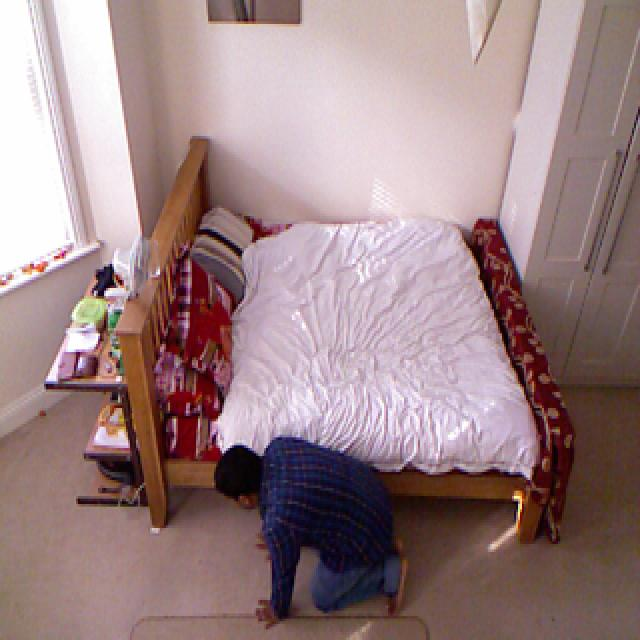crawling: (214, 436, 408, 629)
